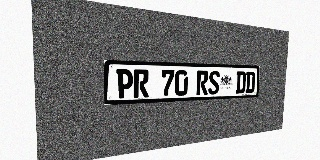0: (175, 70, 188, 96)
7: (160, 70, 175, 97)
D: (236, 71, 246, 93), (245, 71, 255, 93)
P: (116, 69, 133, 99)
R: (133, 69, 149, 98), (196, 70, 209, 95)
S: (208, 71, 220, 95)
